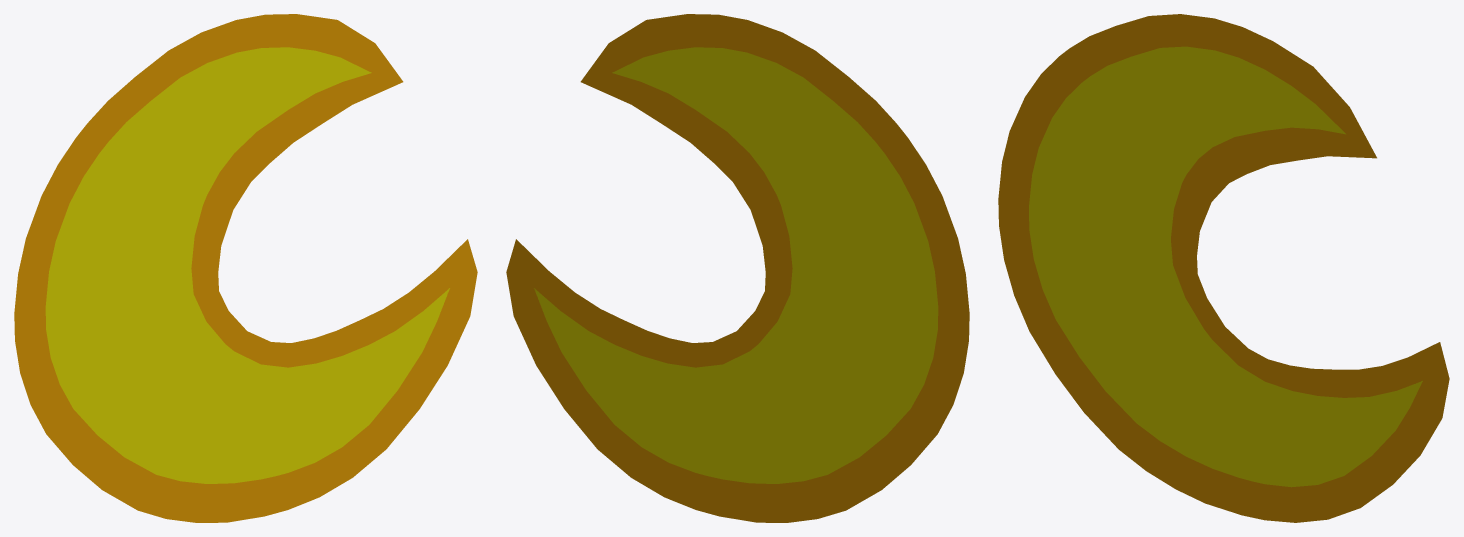
File: moon1.fbx
3 views of the same model, side by side, from view 1: azimuth 30°, elevation 25°; view 2: azimuth 150°, elevation 25°; view 3: azimuth 330°, elevation 25° (orthographic). The views are drawn at different scales.
Visible parts, largest first — view 1: moon1; view 2: moon1; view 3: moon1.
Part boxes in pixels (x1,y1,x2,y2): moon1: (14,14,477,522); moon1: (506,14,969,522); moon1: (998,14,1449,522).
Bounding box in the file's own units: 0.8849 × 0.9186 × 3.2e-23.
